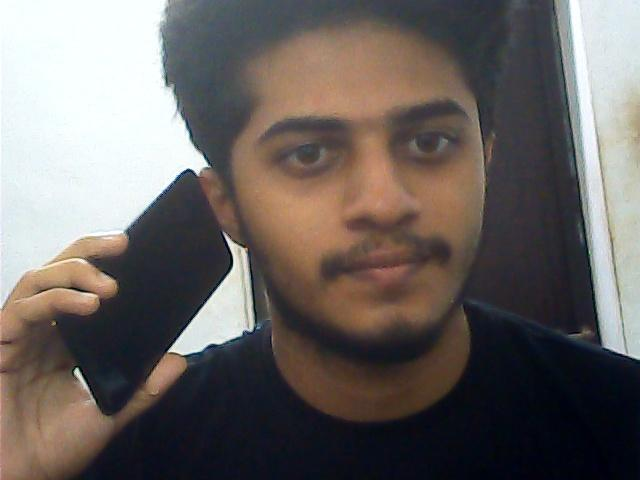PhoneUse: (42, 160, 230, 416)
SafeDriving: (264, 124, 358, 180), (387, 111, 471, 172)
